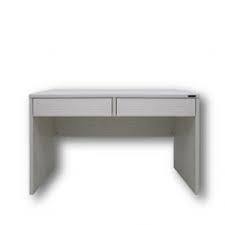desk: (25, 66, 205, 204)
